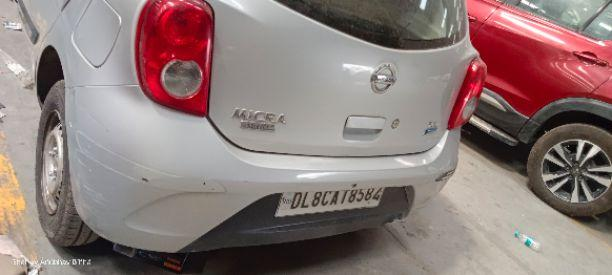license_plate: (273, 185, 385, 217)
